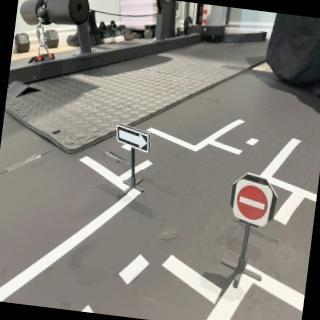sign_noentry: (231, 178, 279, 231)
sign_oneway_right: (113, 124, 155, 157)
